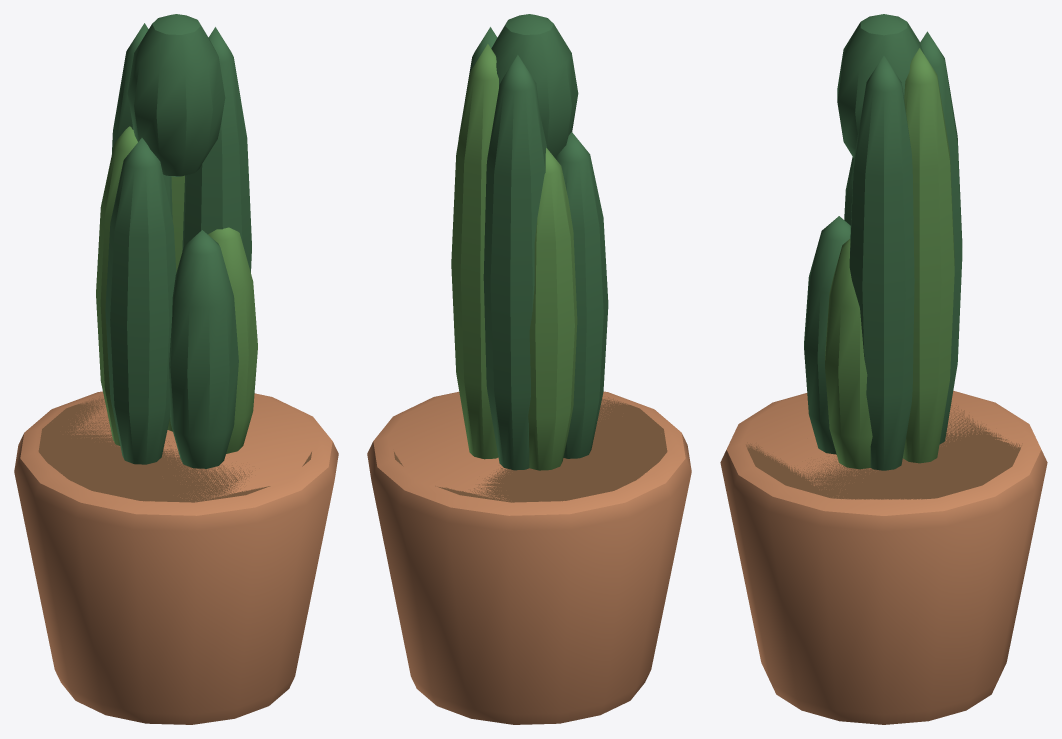
Rendered from plant_small.glb.
The picture shows the model from 3 angles, left to right: view 1: azimuth 30°, elevation 25°; view 2: azimuth 150°, elevation 25°; view 3: azimuth 270°, elevation 25°; orthographic projection.
Parts seen in each view (by area): view 1: FURN-plant_small; view 2: FURN-plant_small; view 3: FURN-plant_small.
Part boxes in pixels (<box>): FURN-plant_small: <box>14,14,338,724</box>; FURN-plant_small: <box>367,14,691,724</box>; FURN-plant_small: <box>720,14,1047,724</box>.
Bounding box in the file's own units: 0.4 × 0.9 × 0.4.
